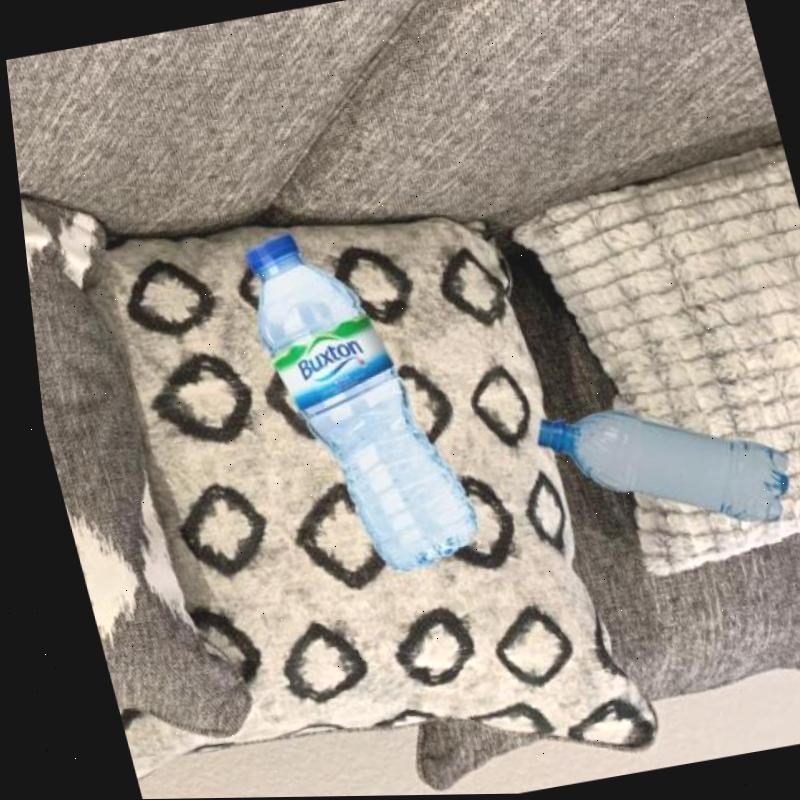botella: (226, 212, 478, 588), (518, 381, 796, 561)
